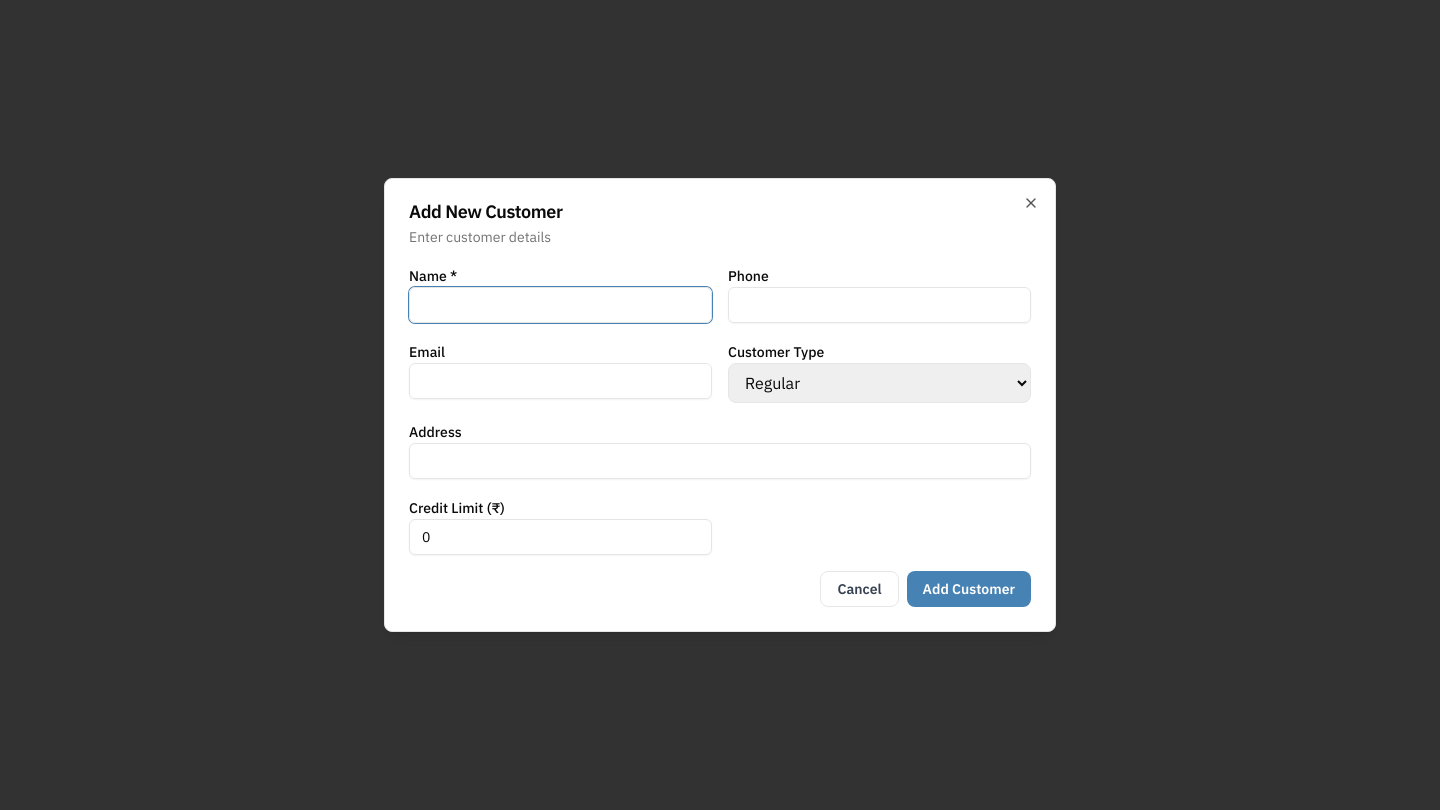
Test: CustomerFormDialog › shows phone validation error for invalid number
In the field with test id "customer-name-input": (560, 305) [409,287,712,323], type "Ramesh"
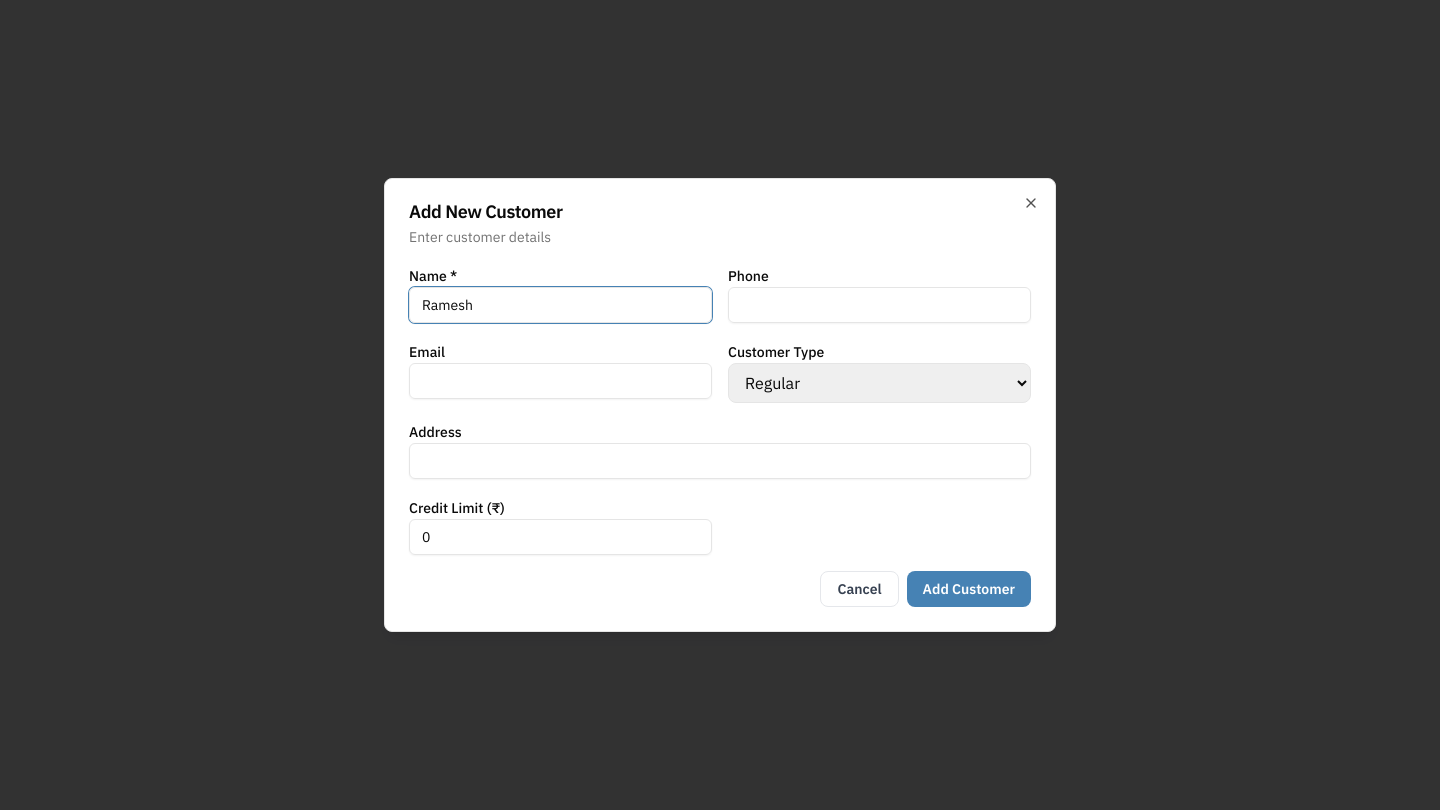
In the field below "Phone": (880, 305) [728,287,1031,323], type "12345"
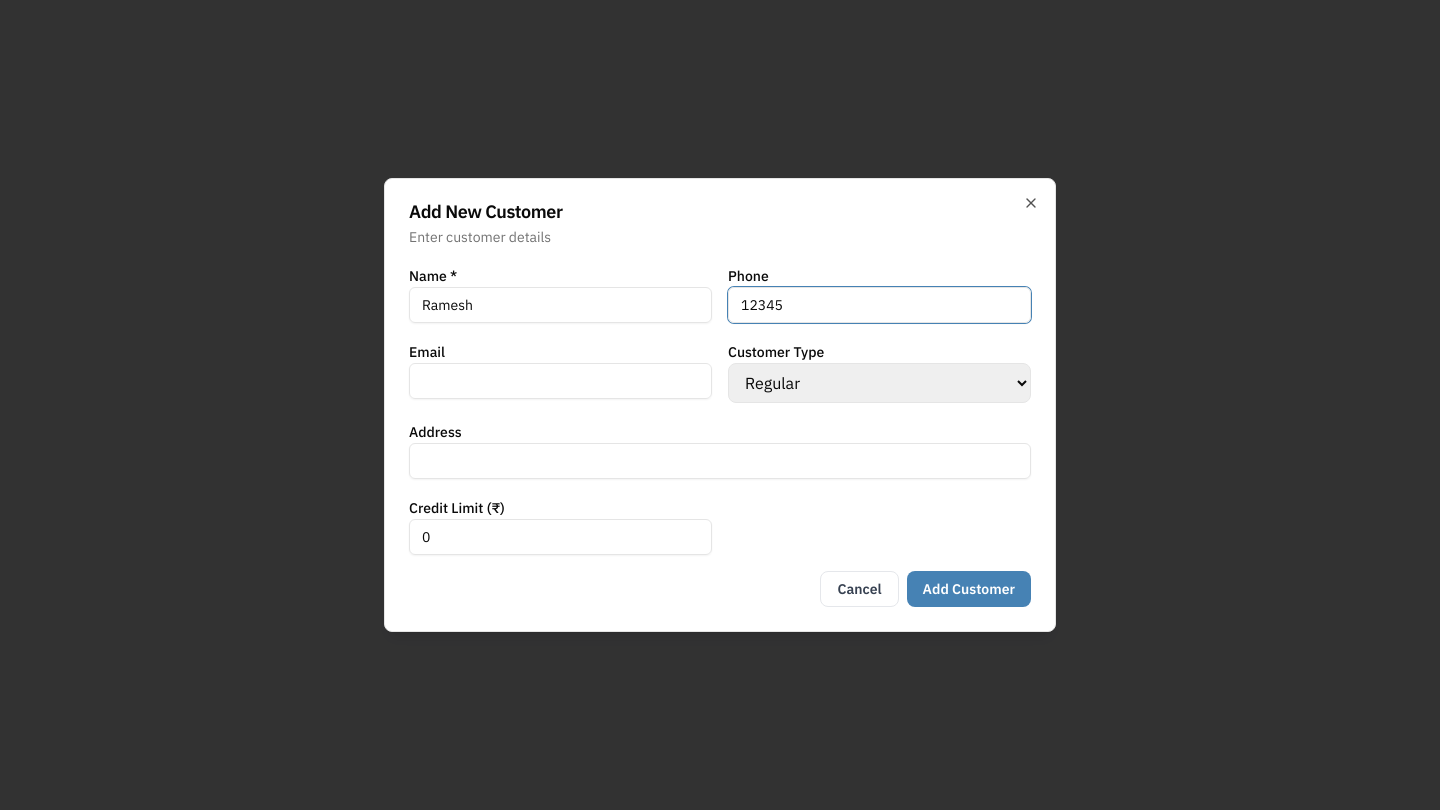
Click the button "Add Customer": (969, 589) [907,571,1031,607]
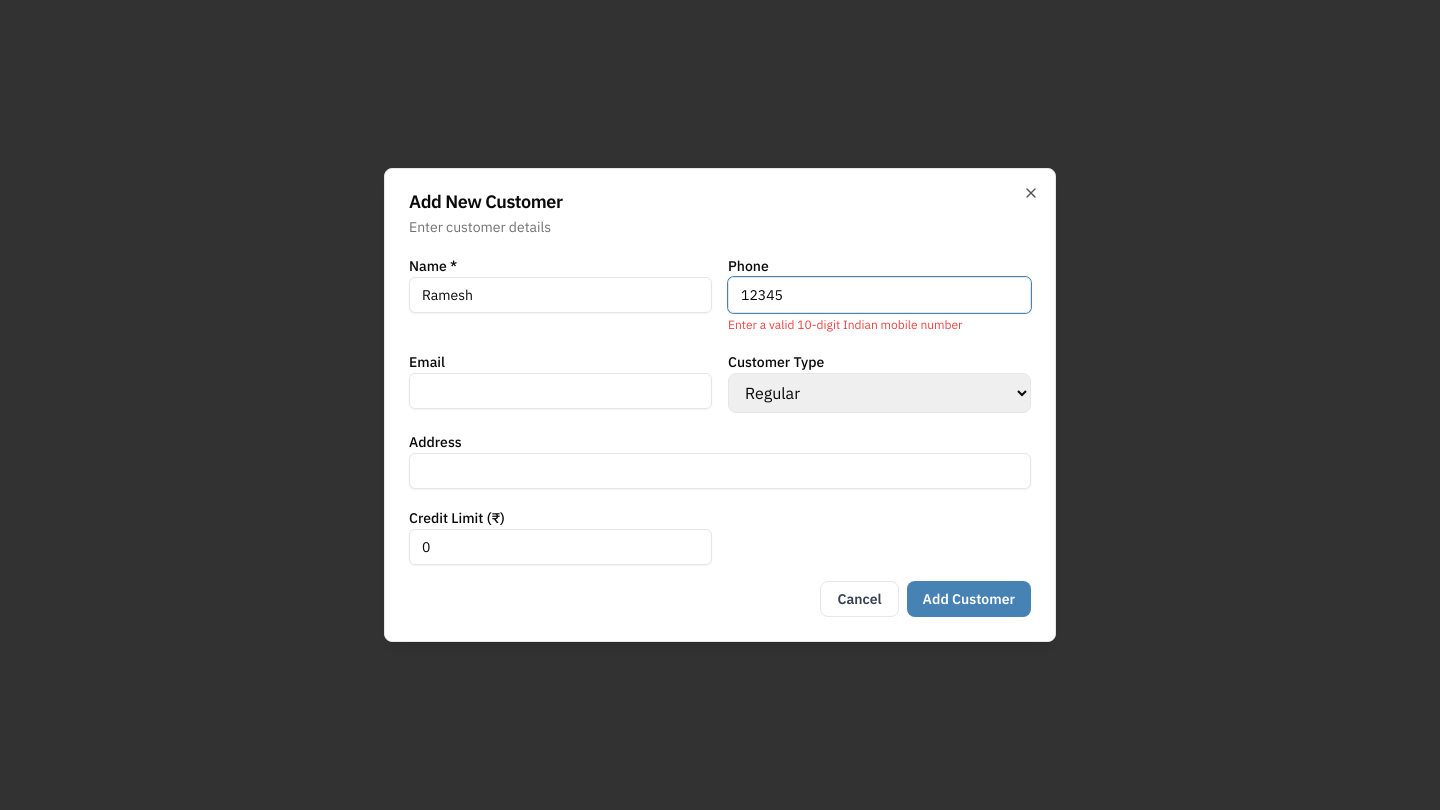
Result: the text "Enter a valid 10-digit Indian mobile number" is shown at [728,317,962,332]
